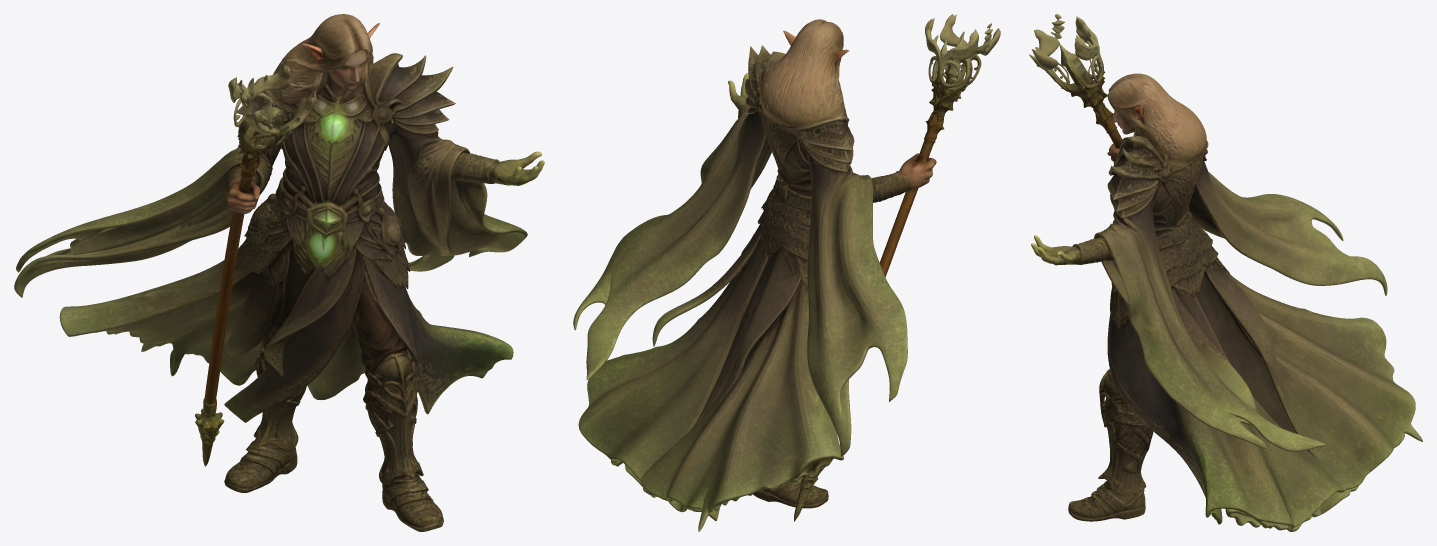
File: elf_warlock_full_male_01.glb
The picture shows the model from 3 angles, left to right: view 1: azimuth 30°, elevation 25°; view 2: azimuth 150°, elevation 25°; view 3: azimuth 270°, elevation 25°; orthographic projection. The views are drawn at different scales.
Parts seen in each view (by area): view 1: material; view 2: material; view 3: material.
Part boxes in pixels (x1=…): material: x1=14, y1=14, x2=544, y2=531; material: x1=573, y1=14, x2=1000, y2=531; material: x1=1029, y1=14, x2=1422, y2=531.
Bounding box in the file's own units: 0.7602 × 0.8643 × 0.7349.
Materials: 1 (1 with a texture image).
